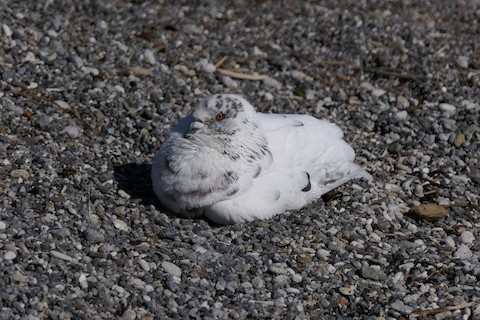pigeon: (148, 83, 377, 226)
